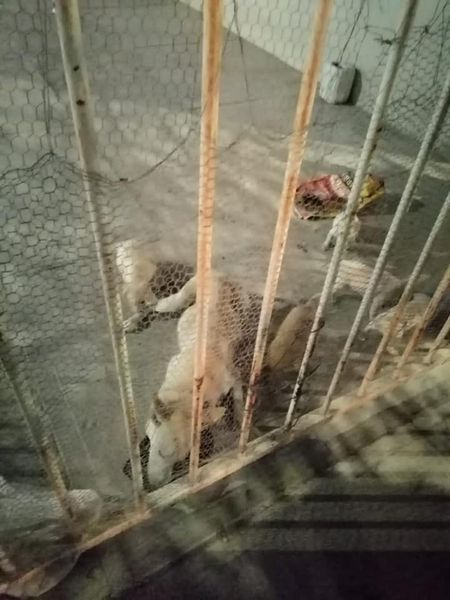dog: (124, 273, 252, 495)
